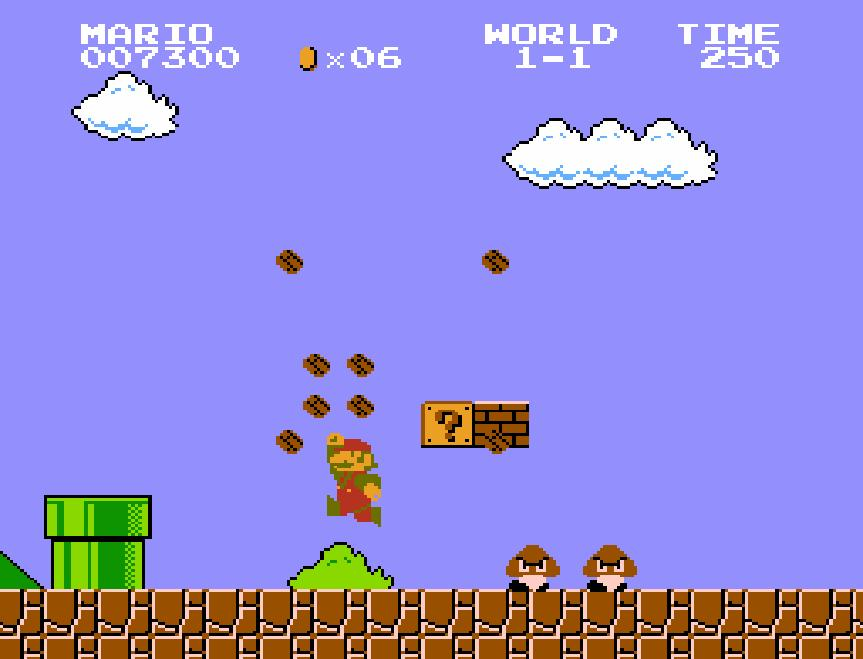big_mario: (324, 431, 382, 529)
